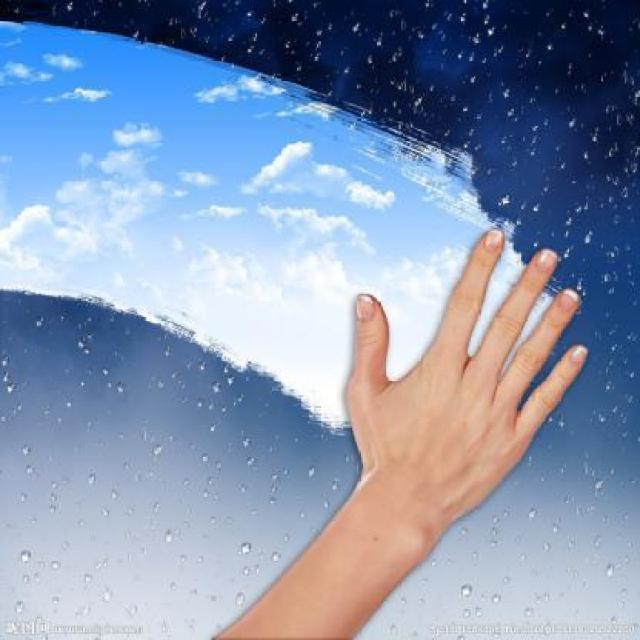hand_noglove: (344, 227, 588, 524)
